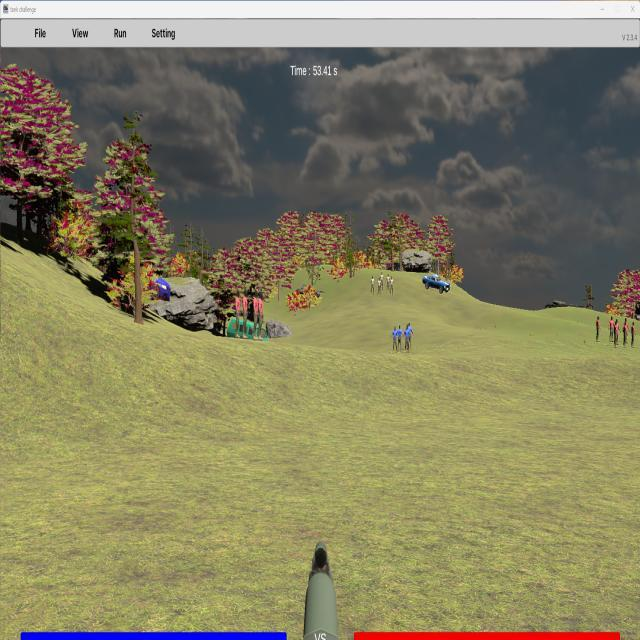car: (422, 273, 451, 294)
